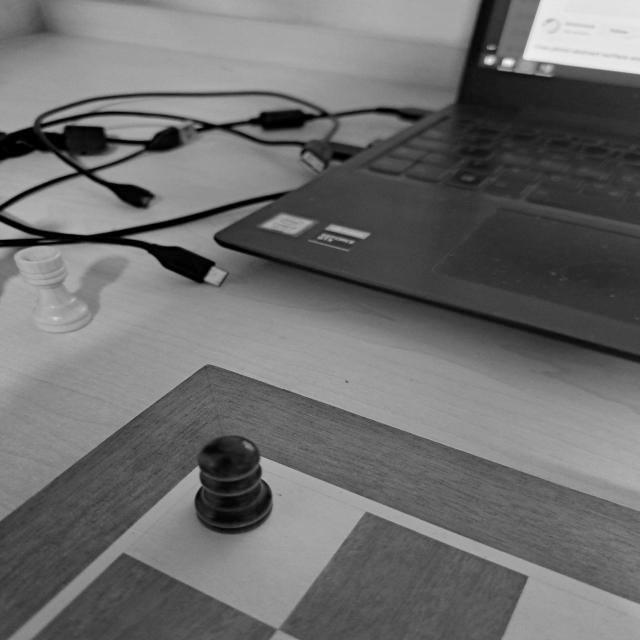chess-table-corners: (160, 430, 306, 490)
